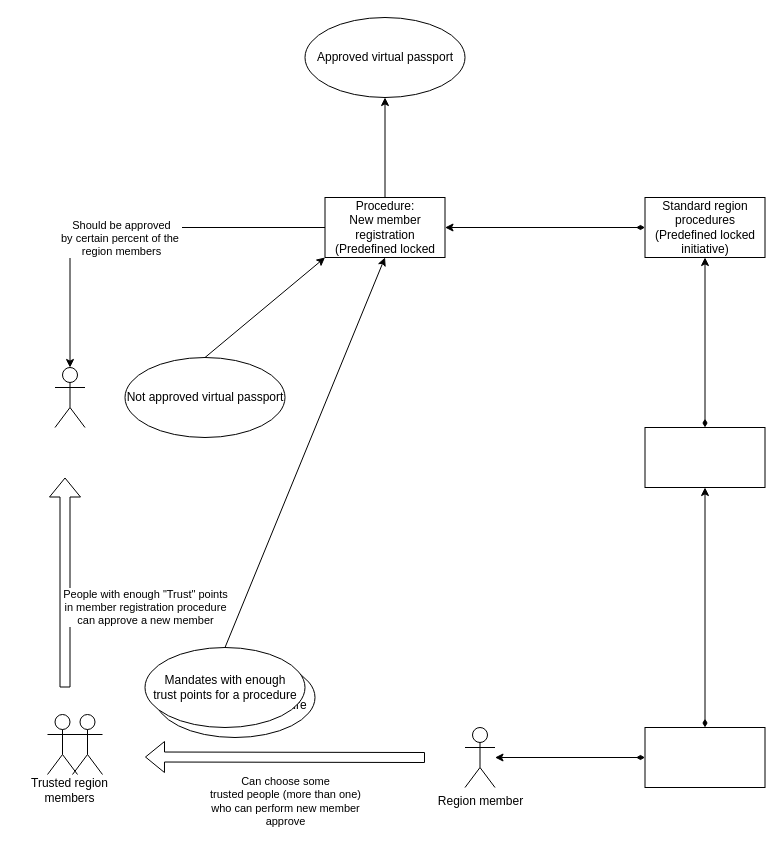
Some shapes in this 782 by 845 pixel diagram are drawn without their labels. Here are the shapes that lost their labels. From the top down, the centre of each, then its label:
(x=69, y=397): New member
(x=704, y=457): Region management topic (Predefined locked topic)
(x=704, y=757): Terminal region
